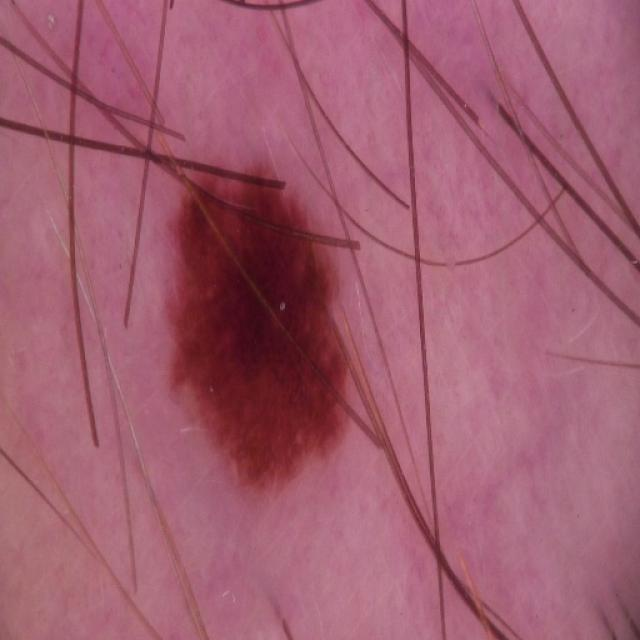Melanoma: (168, 181, 346, 489)
